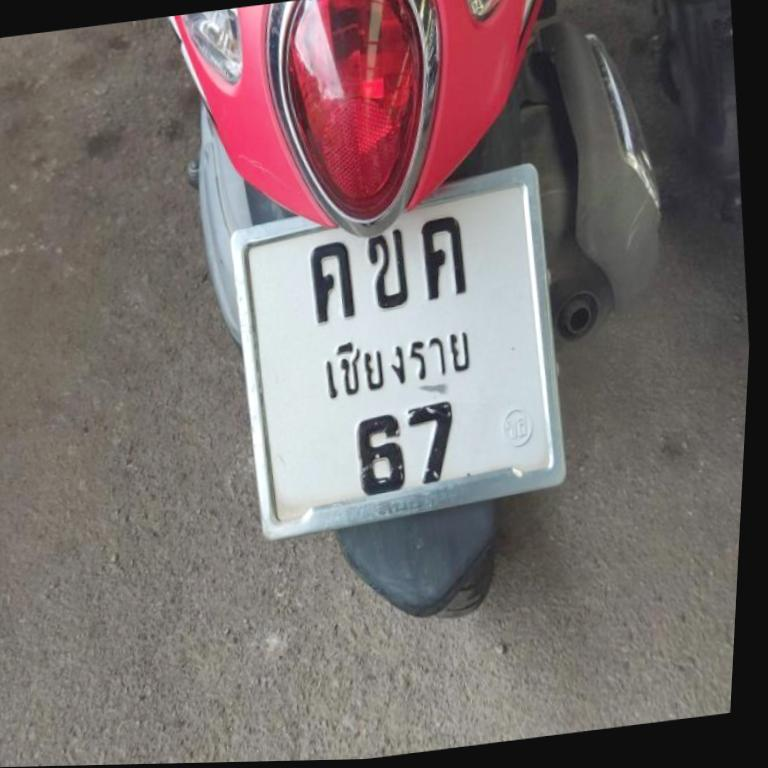license plate: (232, 166, 562, 537)
